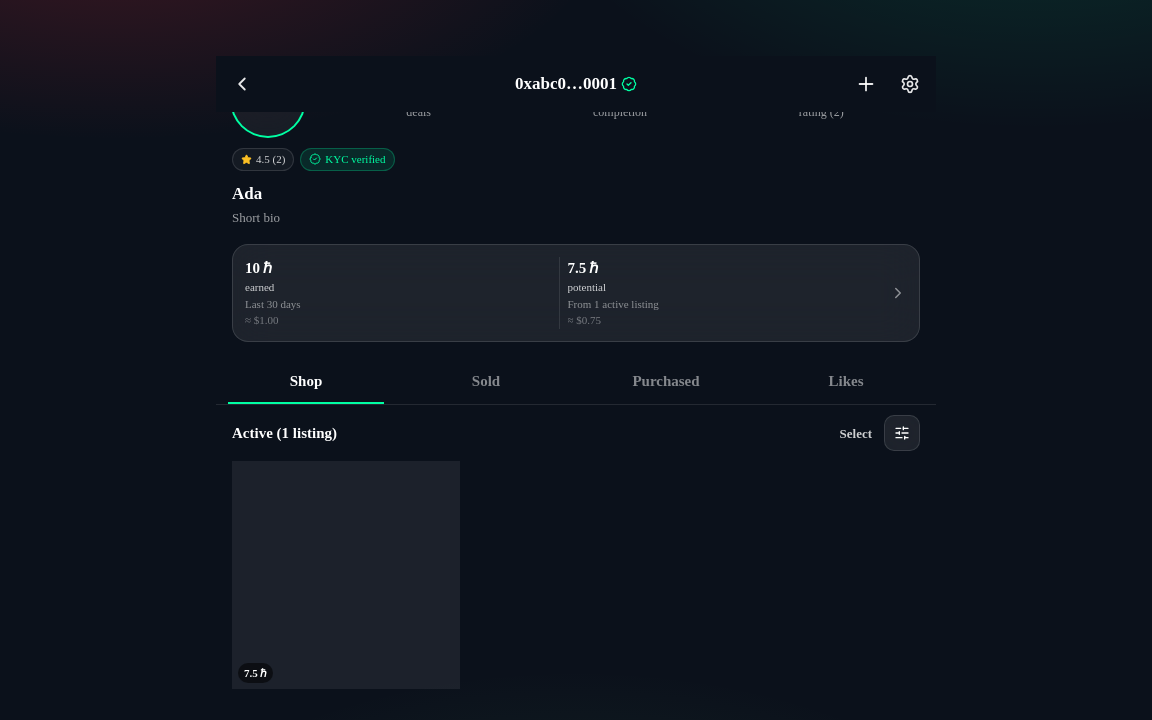
Test: ProfileContent › keeps sheet destinations in the gear that the profile tabs do not cover
Click the button with test id "profile-gear": (910, 84) [888,62,932,106]
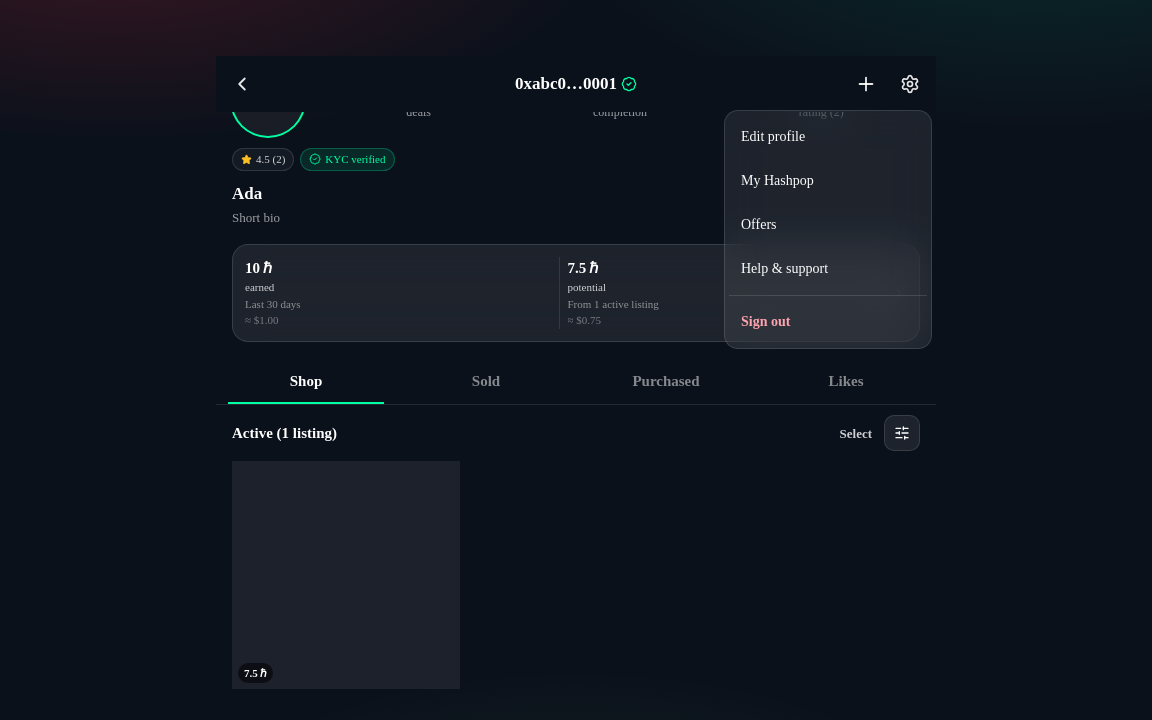
Expected: the menu with test id "profile-gear-menu" shows "Edit profile", [729,115,927,159]
Expected: the menu item to "/dashboard" reads "My Hashpop", [741,173,814,188]
Expected: the menu item to "/offers" is shown, [741,217,776,232]
Click the menu item "Sign out": (828, 322) [729,300,927,344]
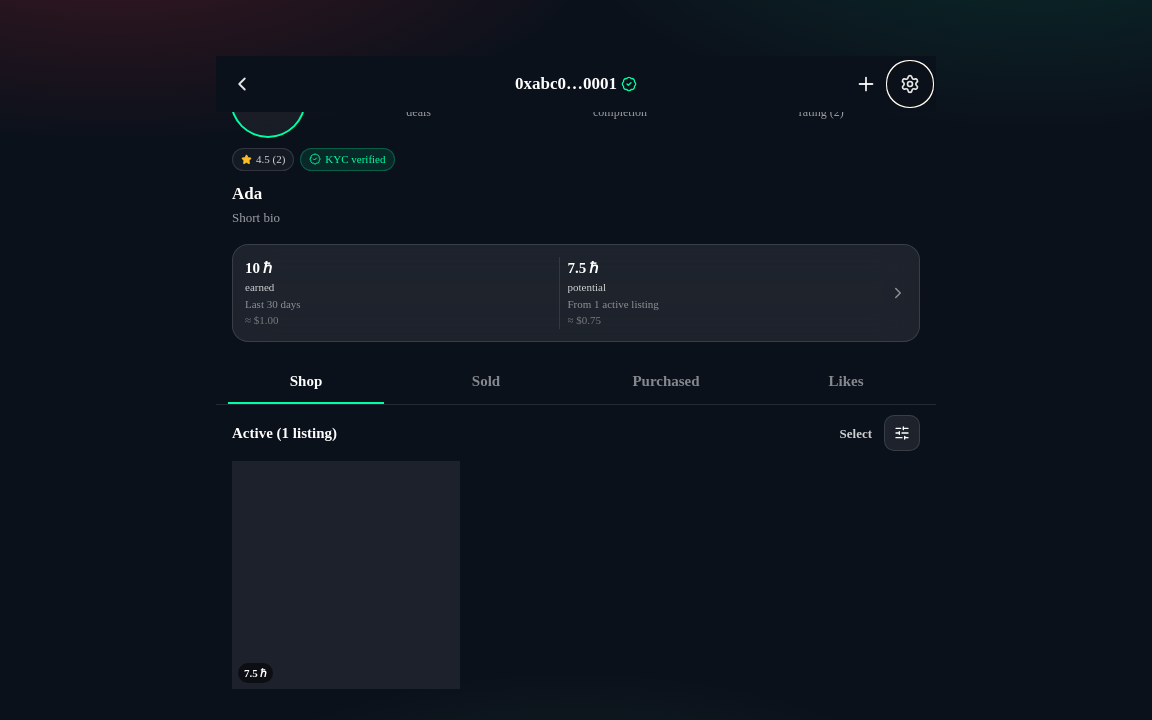
Expected: the menu with test id "profile-gear-menu" is gone
